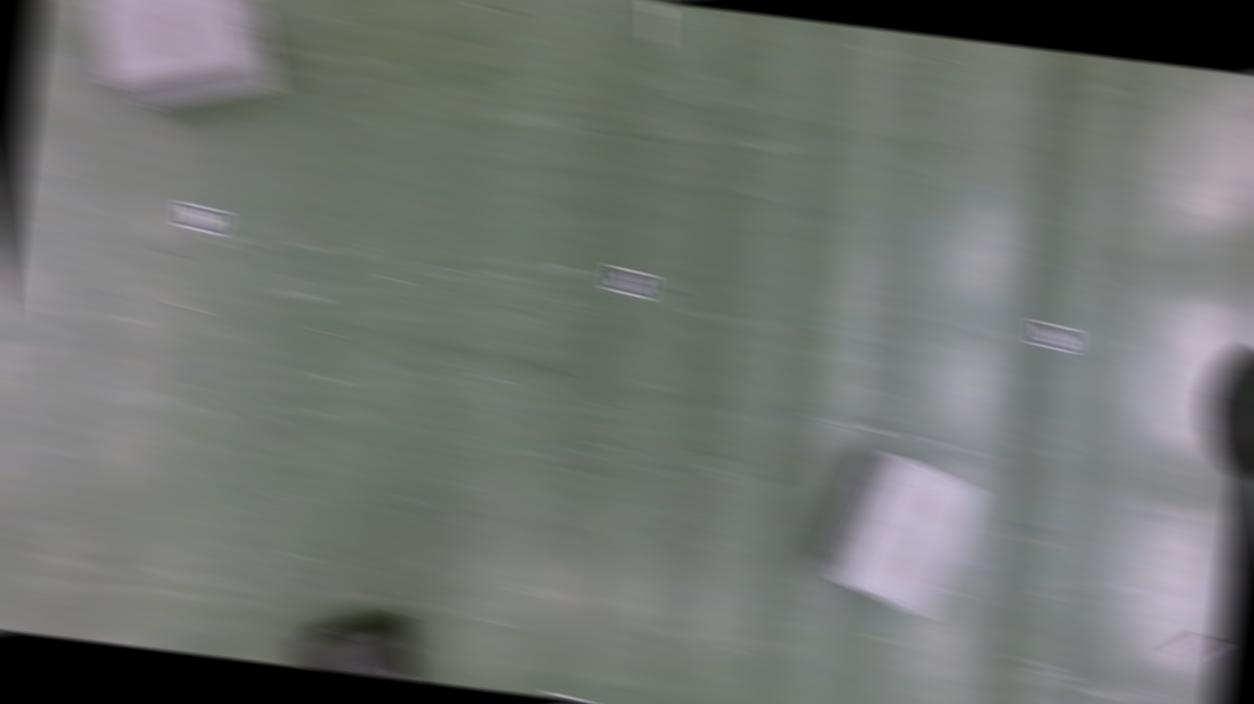probes: (1166, 628, 1224, 663), (641, 1, 668, 48)
rako: (805, 438, 993, 622), (72, 0, 290, 125), (284, 601, 433, 682)
